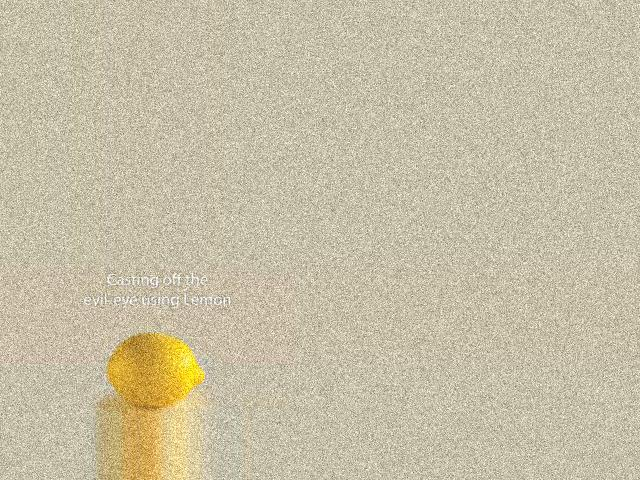lemon: (98, 327, 210, 403)
